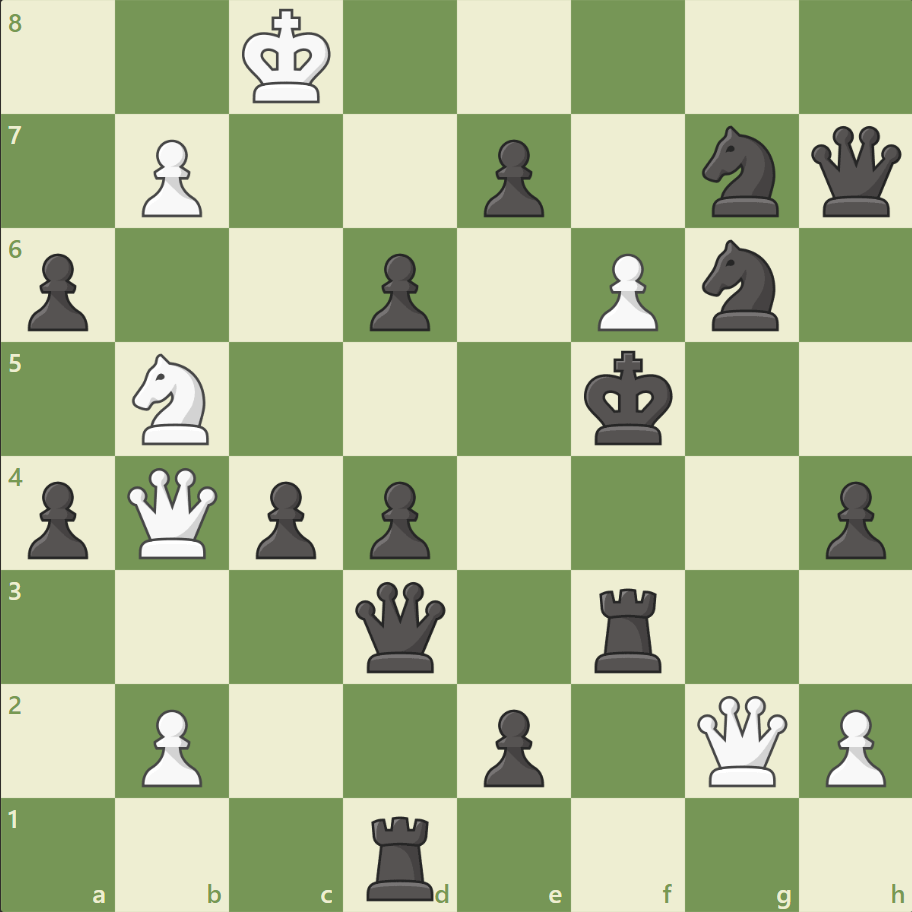K: (238, 4, 338, 112)
N: (124, 348, 222, 450)
P: (133, 132, 208, 223), (133, 700, 208, 791), (588, 246, 662, 337), (815, 700, 889, 791)
Q: (124, 463, 223, 562), (691, 690, 790, 789)
k: (579, 344, 679, 452)
n: (692, 234, 789, 337), (692, 121, 789, 223)
p: (474, 132, 549, 223), (20, 246, 95, 337), (20, 473, 95, 564), (247, 473, 322, 564), (474, 700, 549, 791), (361, 246, 435, 337), (361, 473, 435, 564), (815, 473, 889, 564)
q: (805, 122, 904, 222), (351, 576, 450, 676)
r: (587, 579, 670, 676), (360, 806, 442, 904)
